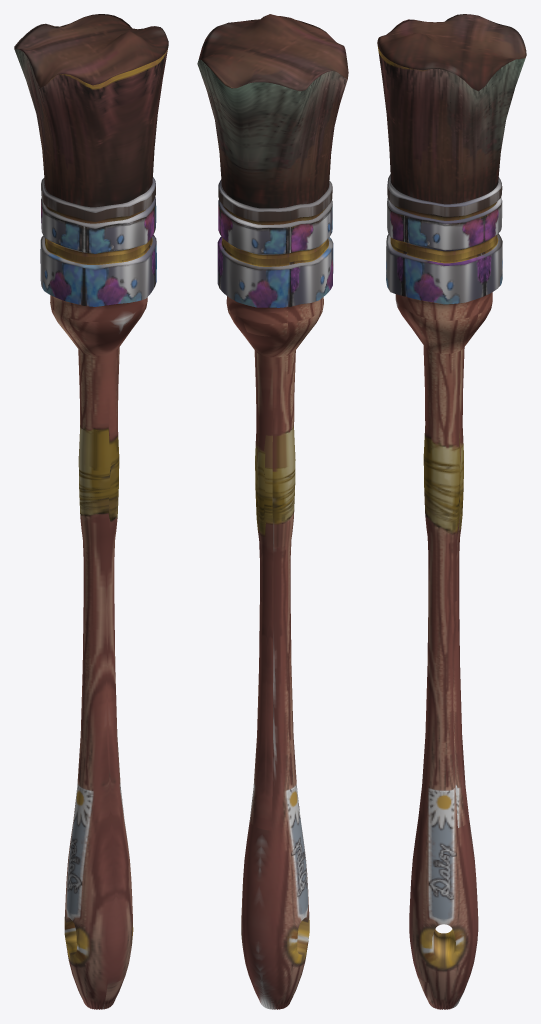
The model's file is brush2.glb.
The picture shows the model from 3 angles, left to right: view 1: azimuth 30°, elevation 25°; view 2: azimuth 150°, elevation 25°; view 3: azimuth 270°, elevation 25°; orthographic projection.
Visible parts, largest first — view 1: Cylinder; view 2: Cylinder; view 3: Cylinder.
Boxes of the visible parts, x1,y1,x2,y2 form: Cylinder: (14, 14, 168, 1009); Cylinder: (197, 14, 348, 1009); Cylinder: (377, 14, 526, 1009).
Bounding box in the file's own units: 0.0563 × 0.4103 × 0.0563.
1 material, 1 textured.
